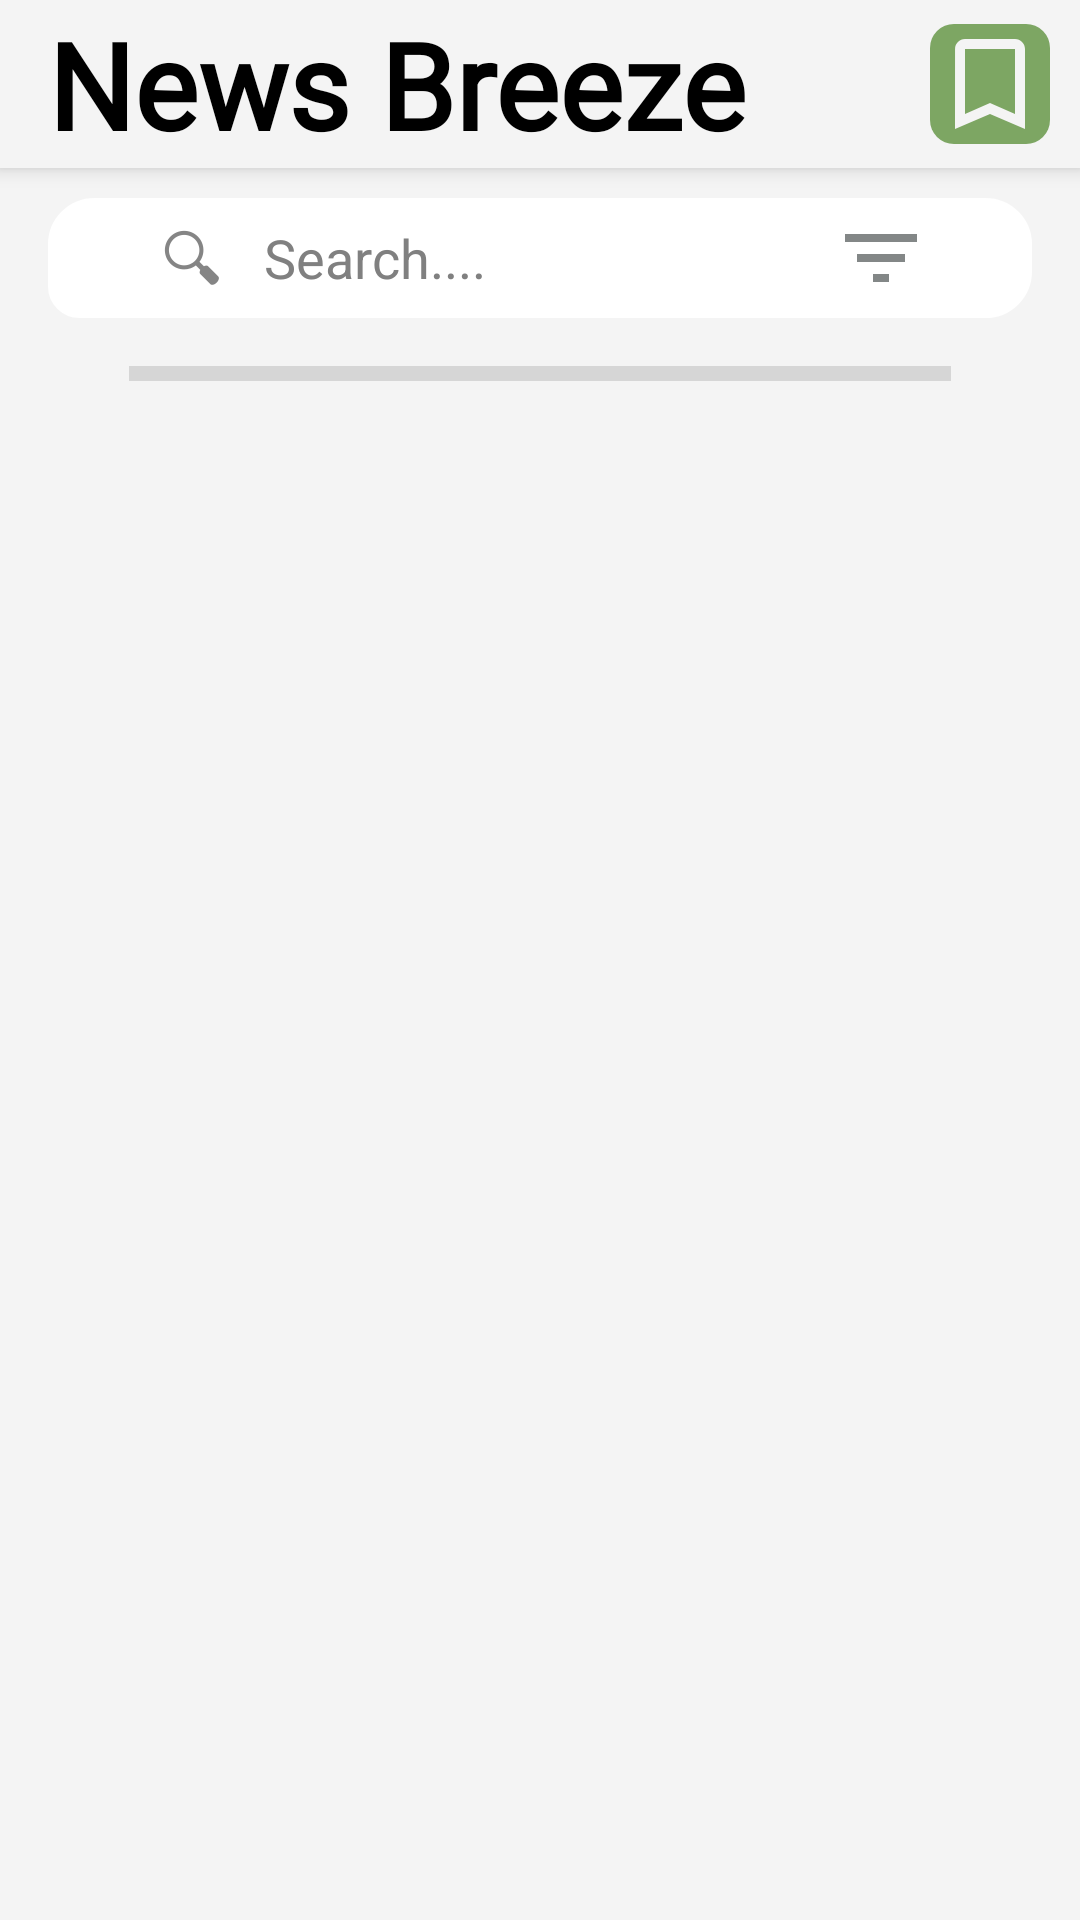

Where to tap for icons on this 1080*1920 app screen, as (x=x, y=y):
bookmark border: (x=990, y=84)
filter list: (x=881, y=258)
